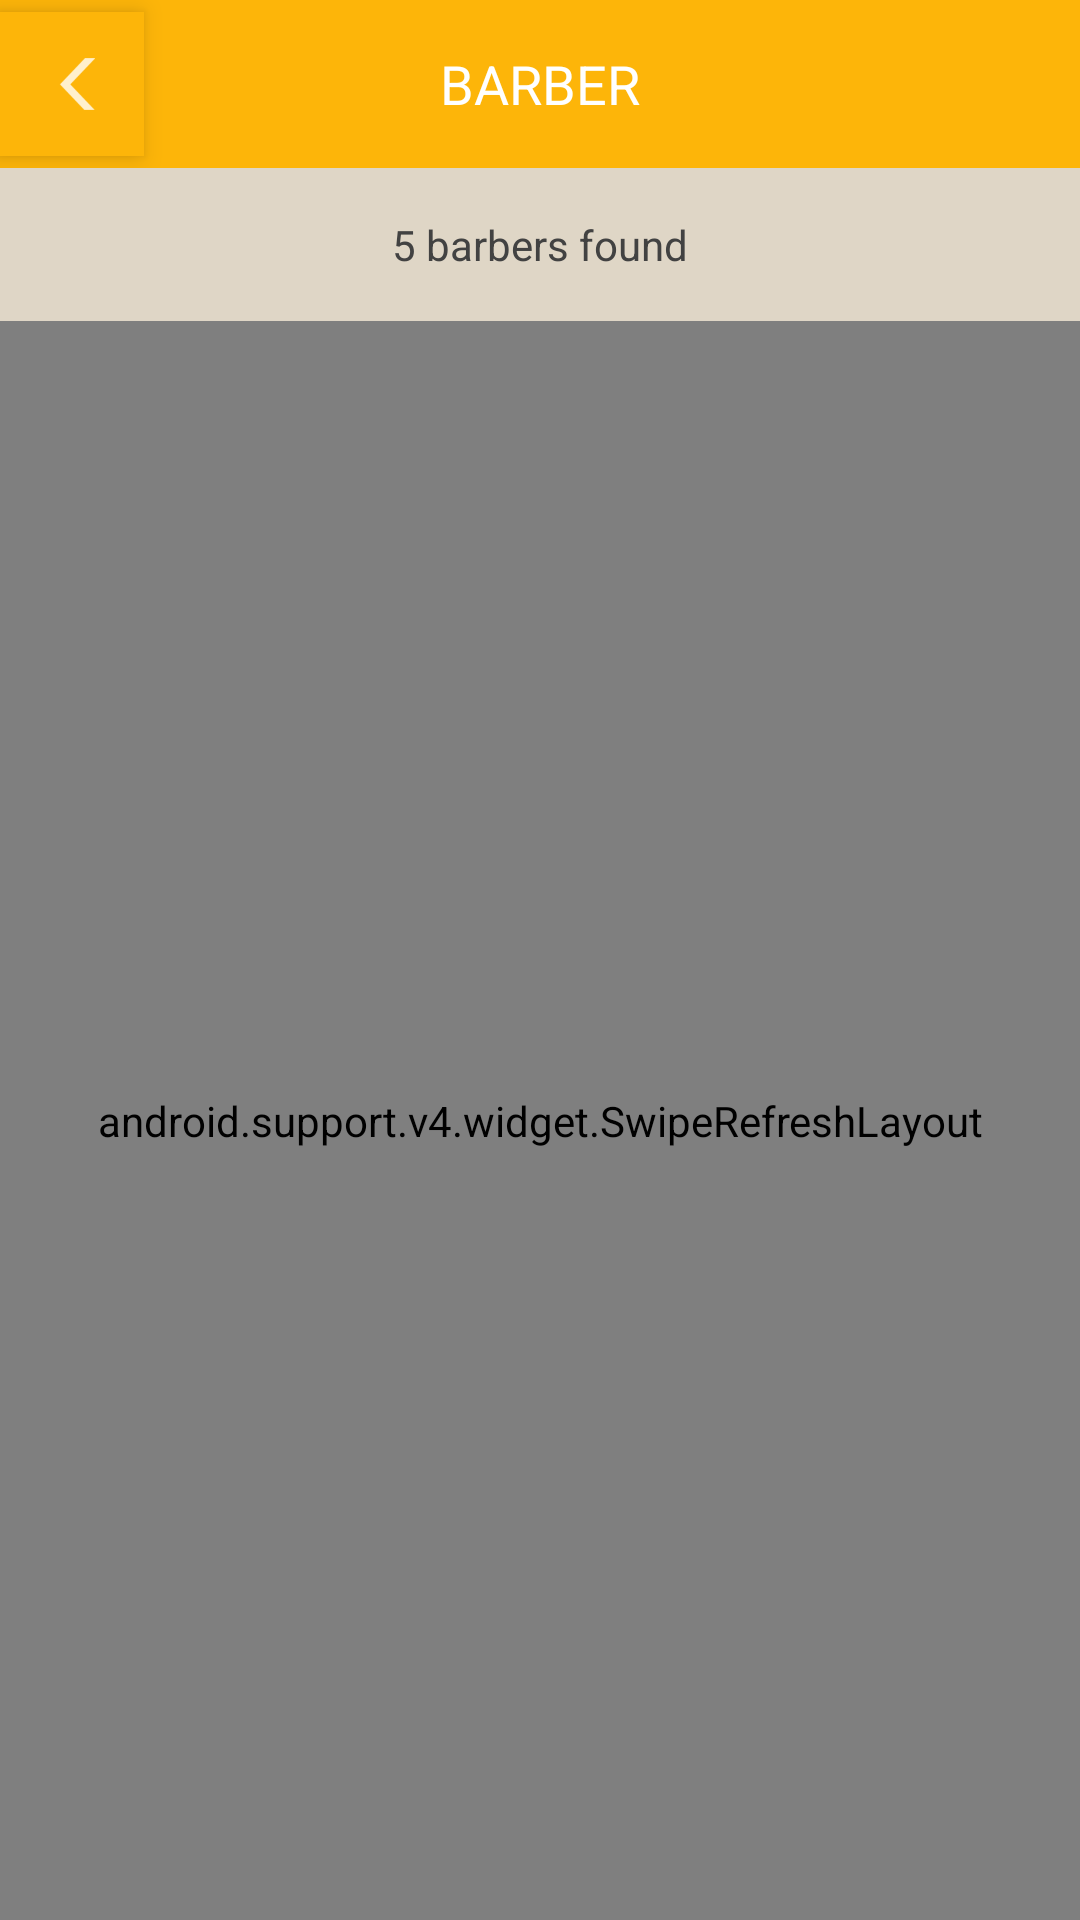

Named icons in this screenshot (1080×1920) and their centers, (x=x, y=y):
back: (x=72, y=84)
